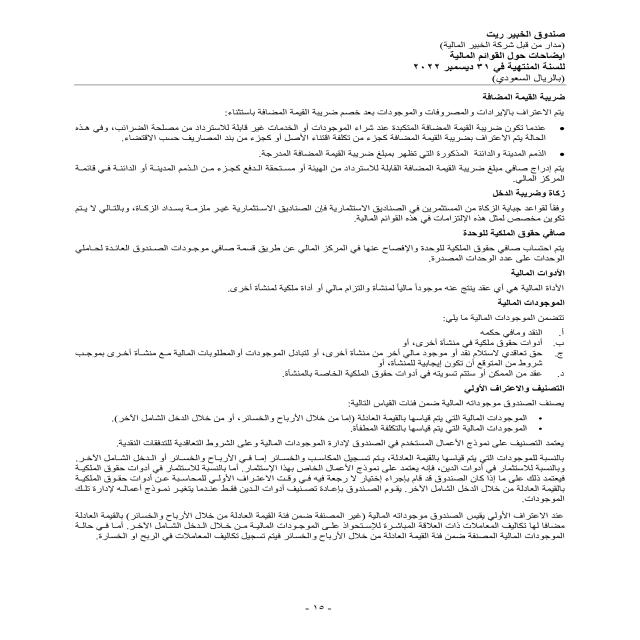notes: (432, 49, 570, 63)
text: (44, 105, 571, 556)
